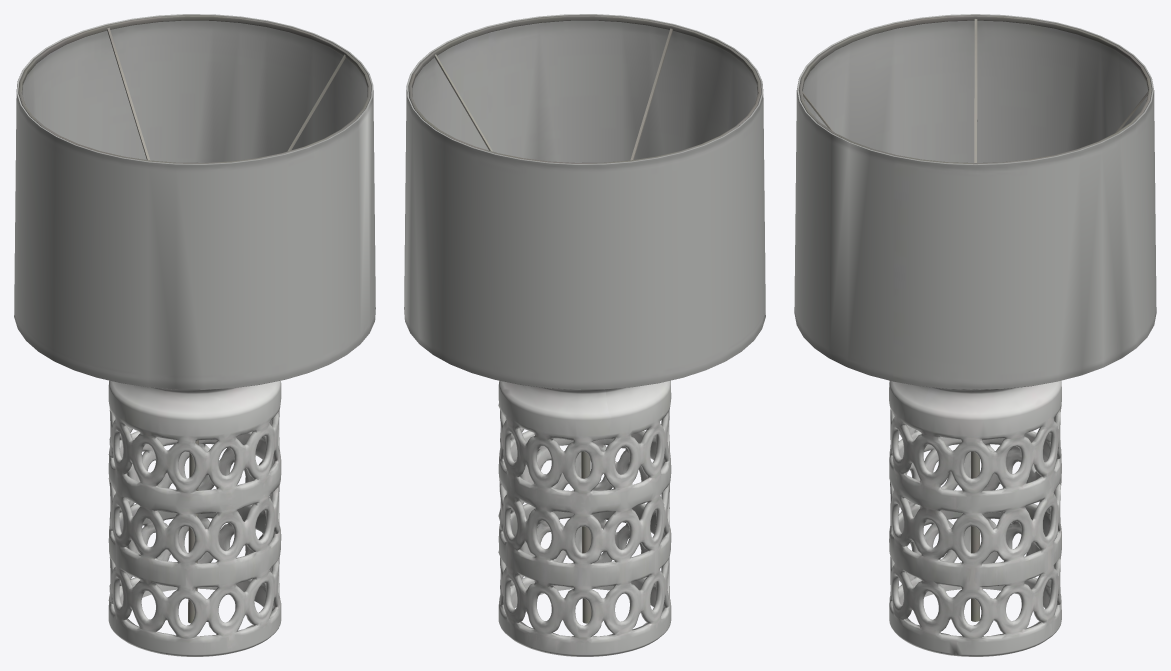
The model's file is B07HKGHTGF.glb.
3 views of the same model, side by side, from view 1: azimuth 30°, elevation 25°; view 2: azimuth 150°, elevation 25°; view 3: azimuth 270°, elevation 25° (orthographic).
Parts seen in each view (by area): view 1: RootNode; view 2: RootNode; view 3: RootNode.
Part boxes in pixels (x1,y1,x2,y2): RootNode: (14,14,375,656); RootNode: (404,14,765,656); RootNode: (794,14,1156,656).
Size of the model in its own units: 0.3096 by 0.5025 by 0.3096.
1 material, 1 textured.
